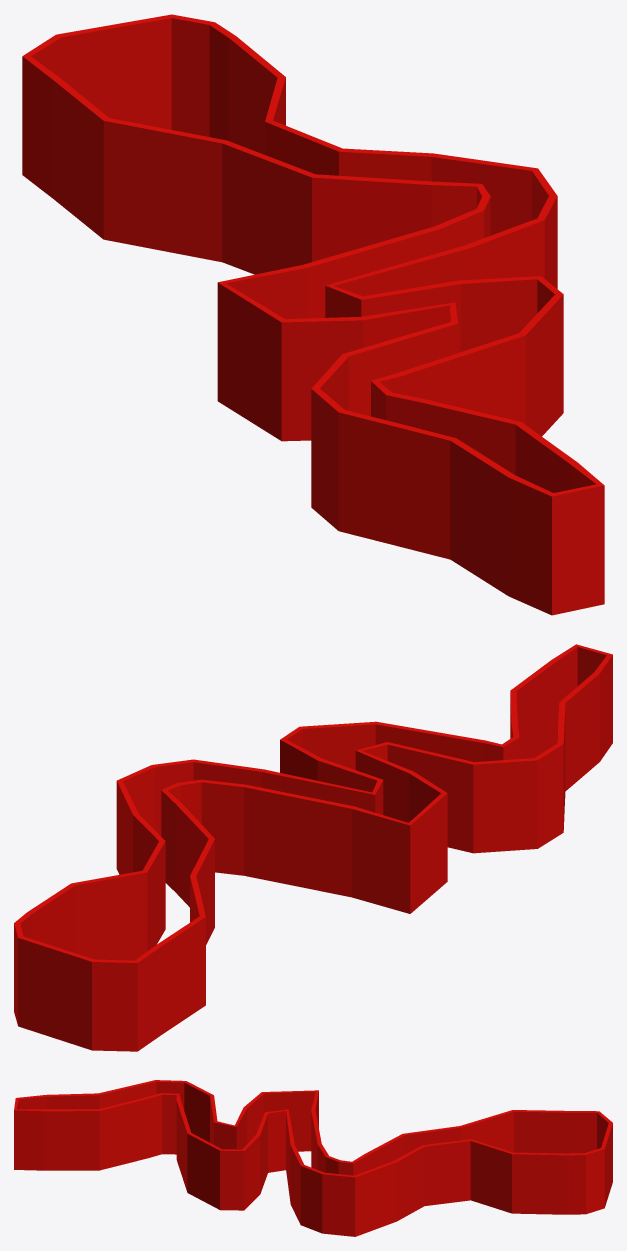
Rendered from ForestFloor_collider.fbx.
3 views of the same model, one above another, from view 1: azimuth 30°, elevation 25°; view 2: azimuth 150°, elevation 25°; view 3: azimuth 270°, elevation 25° (orthographic). The views are drawn at different scales.
Parts seen in each view (by area): view 1: Plane.002; view 2: Plane.002; view 3: Plane.002.
Boxes of the visible parts, x1,y1,x2,y2 form: Plane.002: (22, 14, 604, 615); Plane.002: (14, 644, 612, 1051); Plane.002: (14, 1080, 612, 1236).
Bounding box in the file's own units: 41848 × 12132 × 108670.
